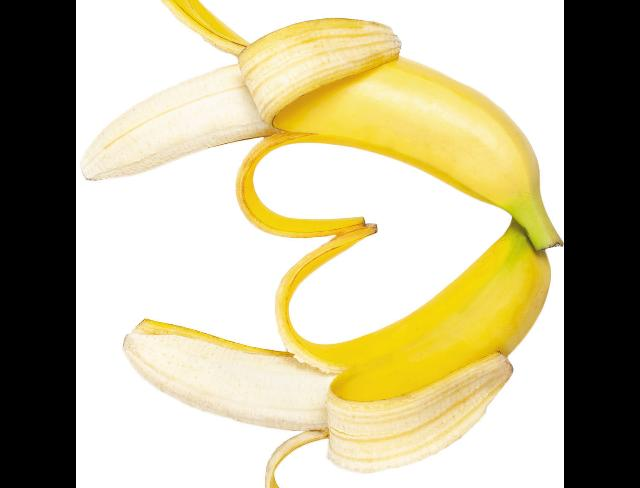Bananas: (123, 230, 553, 488), (81, 0, 540, 233)
